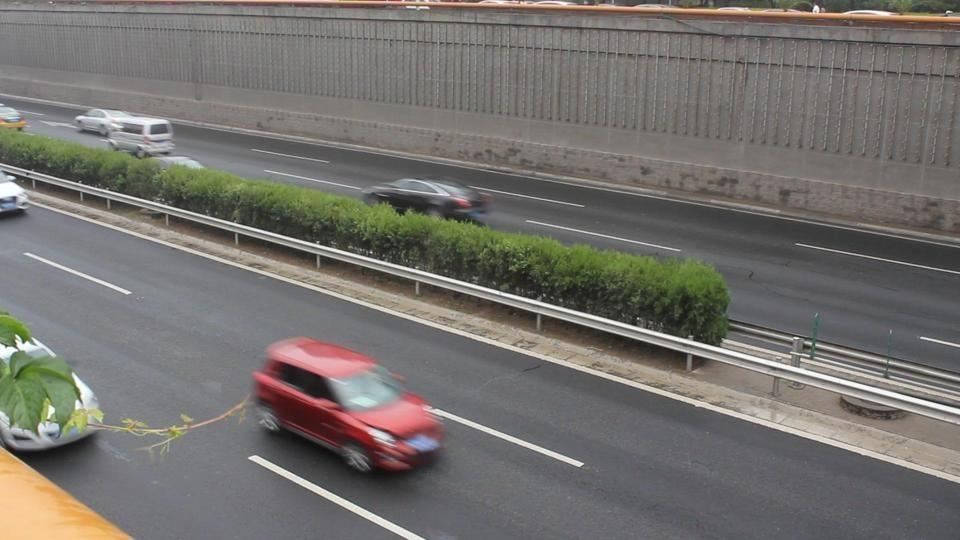car: (252, 335, 447, 475), (1, 312, 104, 456), (361, 178, 494, 222), (104, 112, 176, 157), (75, 109, 152, 142), (0, 175, 30, 218), (0, 103, 28, 129)
